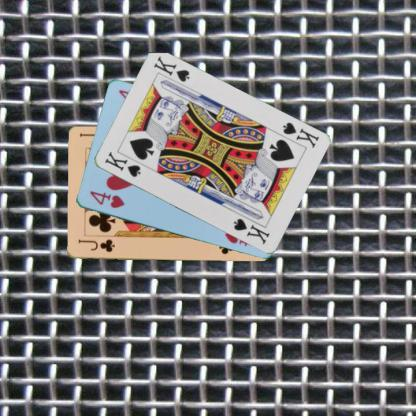4h: (86, 188, 126, 210)
Jc: (76, 237, 116, 254)
Ks: (102, 149, 142, 179), (280, 119, 320, 149)
